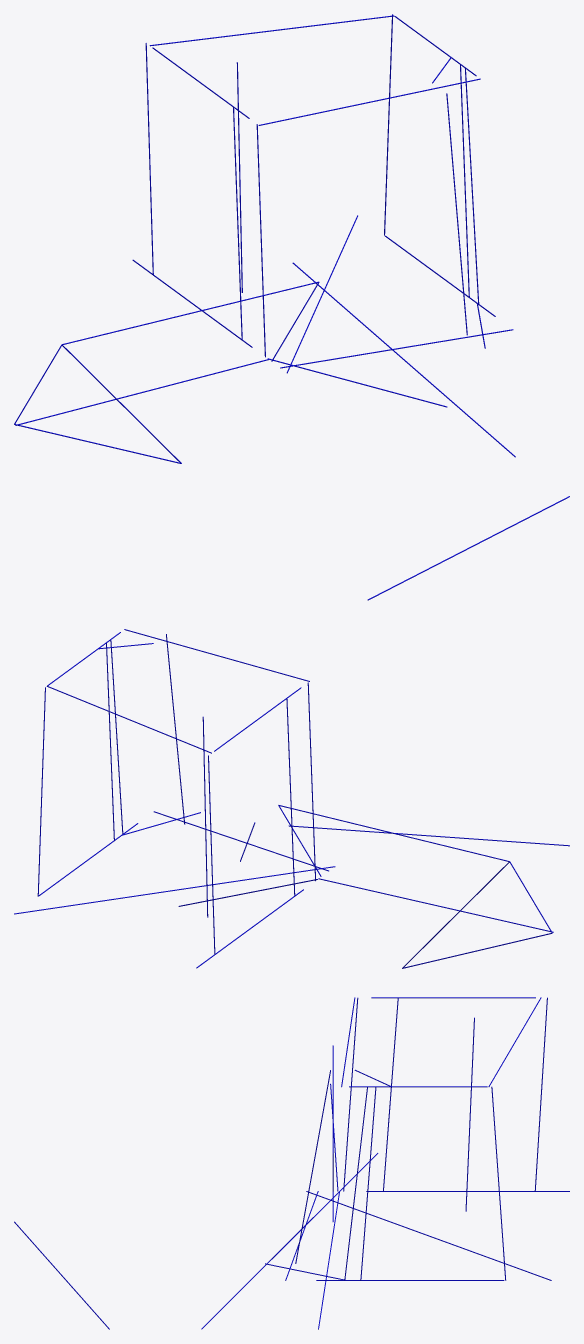
Rendered from corrected_3d_strokes.glb.
The picture shows the model from 3 angles, top to bottom: view 1: azimuth 30°, elevation 25°; view 2: azimuth 150°, elevation 25°; view 3: azimuth 270°, elevation 25°; orthographic projection. The views are drawn at different scales.
Visible parts, largest first — view 1: world; view 2: world; view 3: world.
Part boxes in pixels (x1,y1,x2,y2): world: (14, 14, 569, 600); world: (14, 629, 569, 968); world: (14, 997, 569, 1329).
Bounding box in the file's own units: 18.16 × 11.31 × 21.69.
